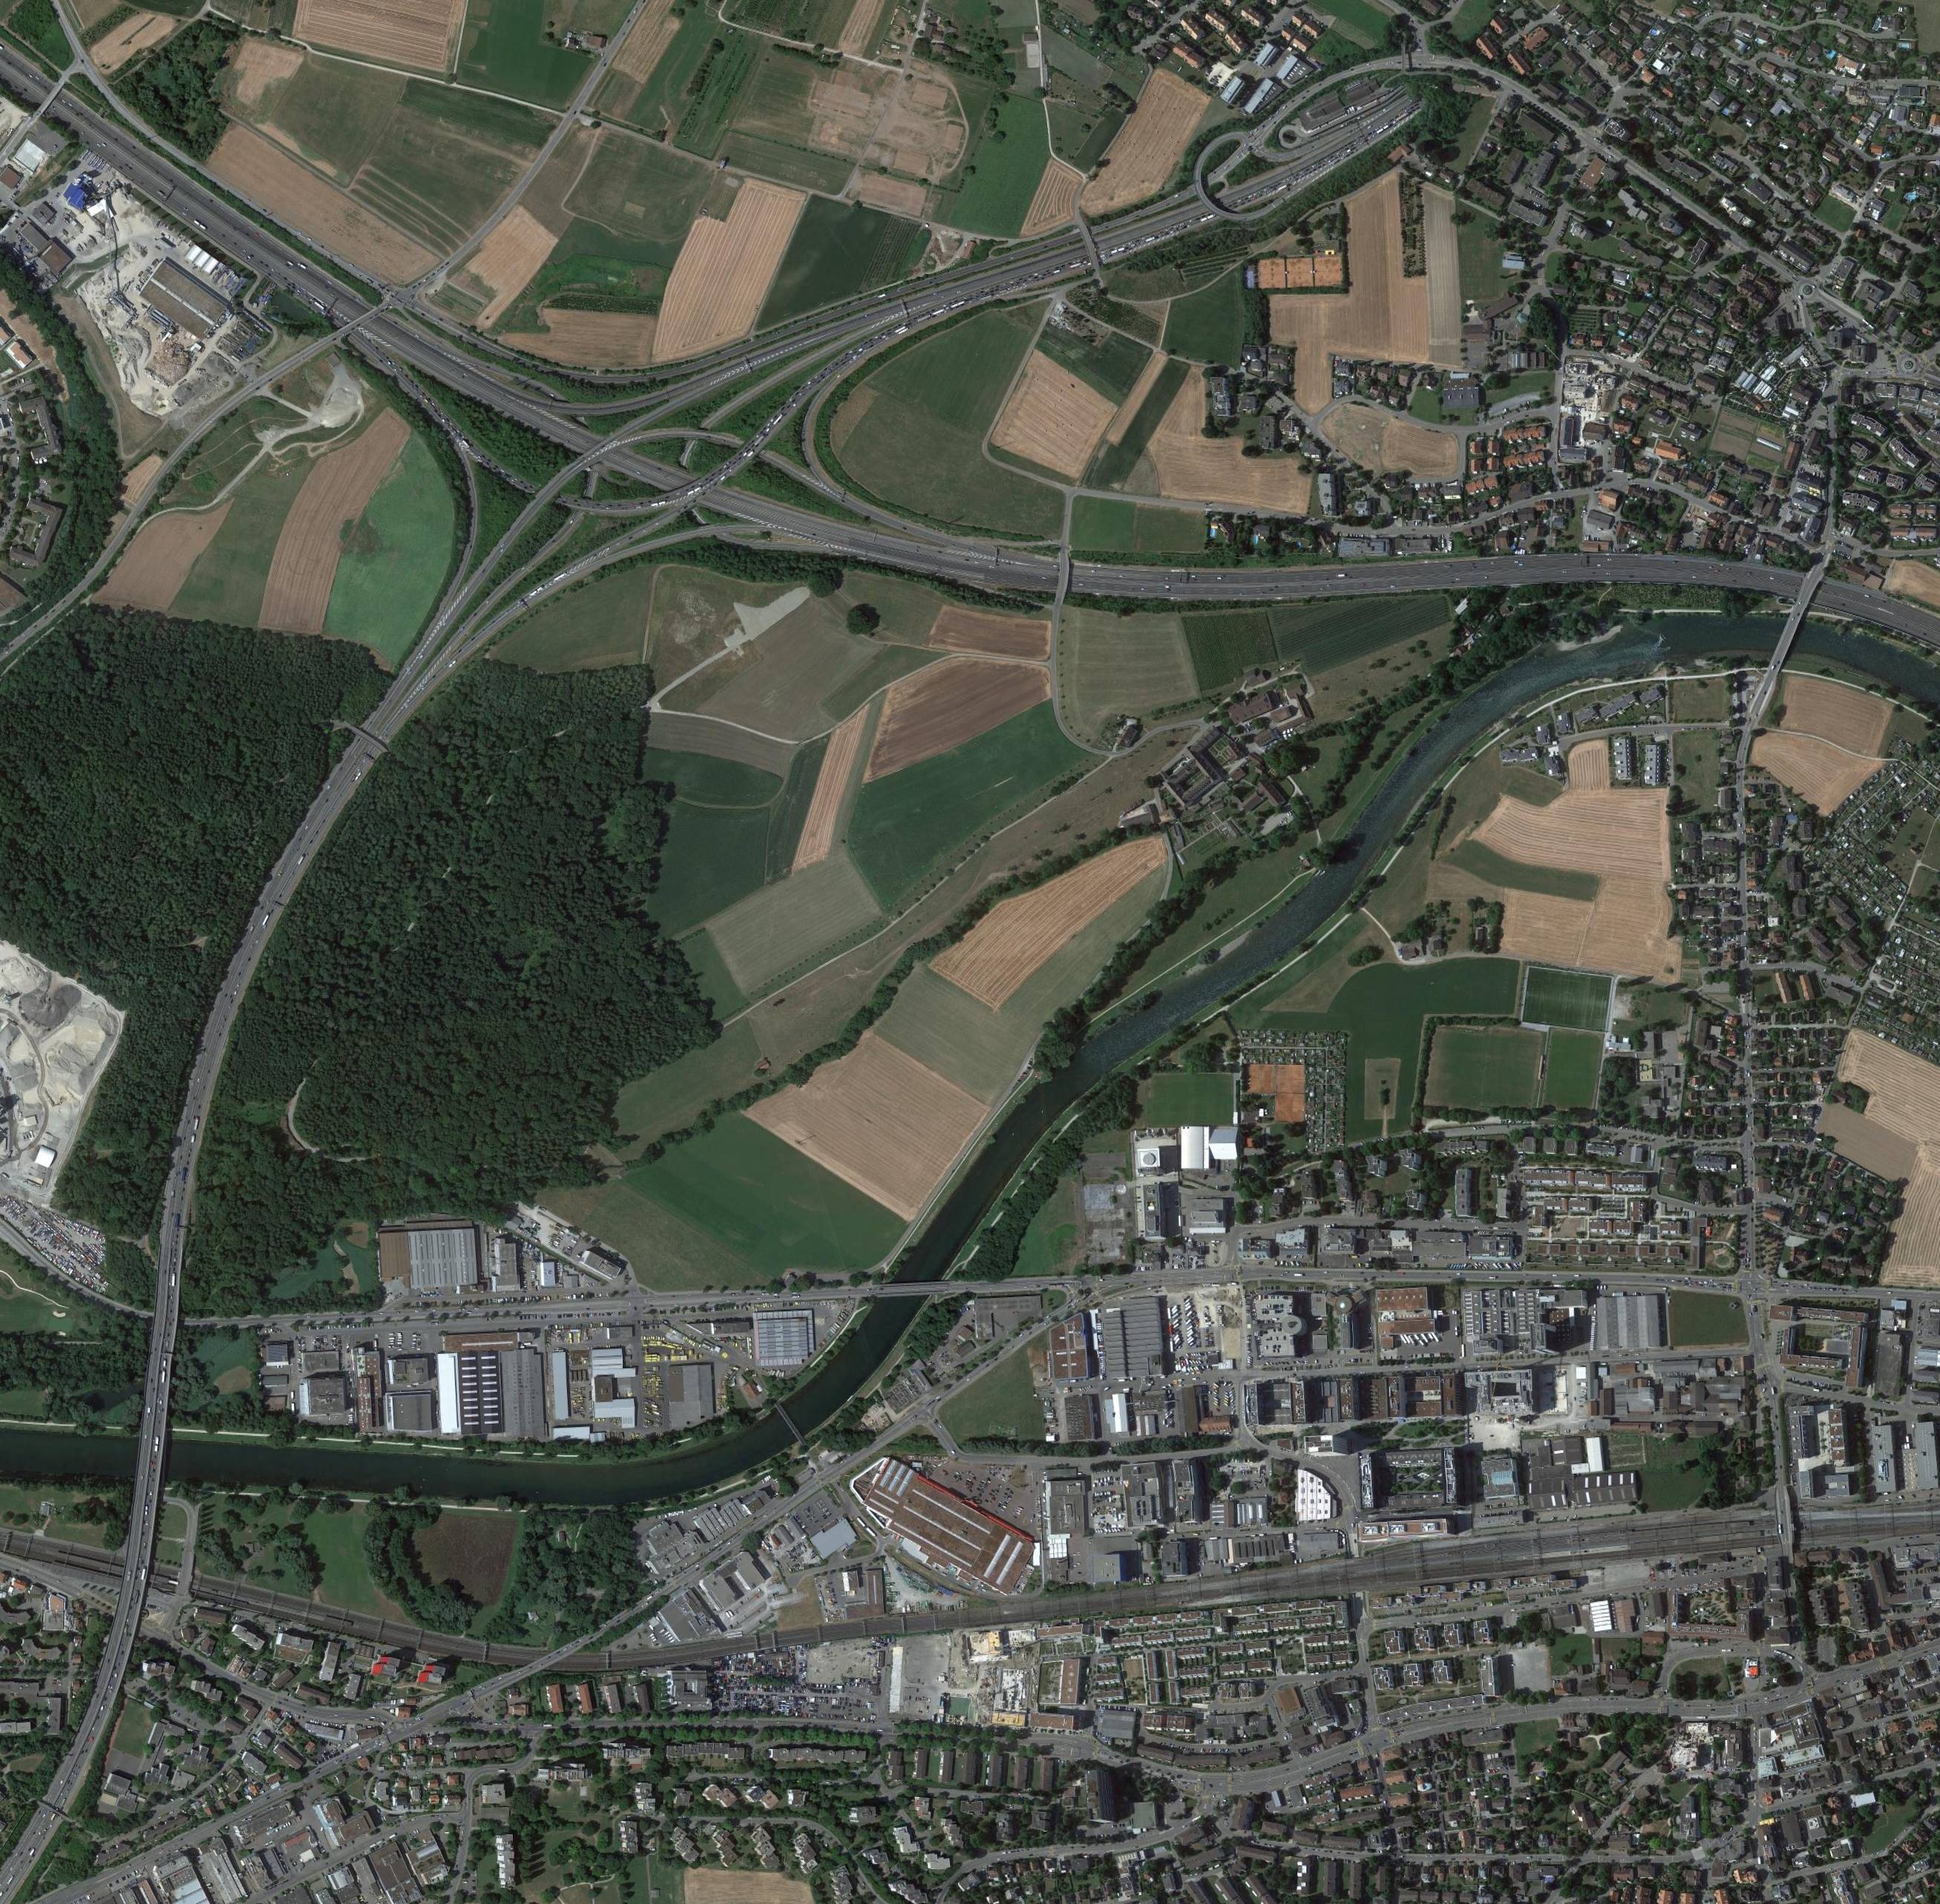bridge: (133, 1433, 166, 1480), (1774, 609, 1806, 657), (876, 1282, 940, 1299)
roundabout: (1795, 277, 1821, 303), (1896, 352, 1921, 378)
soccer ball field: (1523, 966, 1614, 1036), (1424, 1025, 1490, 1109), (1540, 1029, 1605, 1114), (1481, 1029, 1542, 1111)
